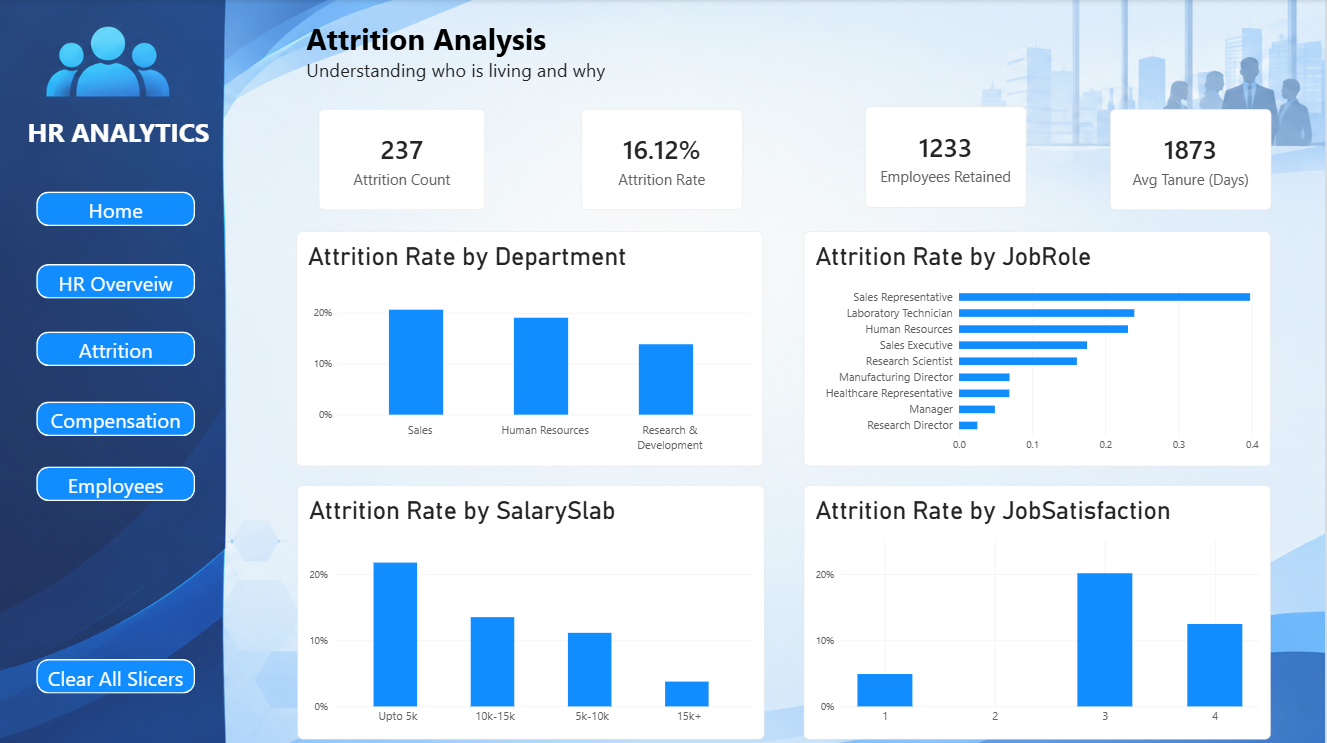

This screenshot's page, from the dashboard's own definition file:
{"tool":"powerbi","page":{"name":"Attrition","canvas":[1920,1080],"ordinal":2},"visuals":[{"type":"card","fields":{"Values":["Measure.Attrition Rate"]},"box":[841.5,159.3,233.4,146.6],"z":0},{"type":"textbox","box":[39.8,166.5,273.3,63.3],"z":0,"group":"g1"},{"type":"card","fields":{"Values":["Measure.Attrition Count"]},"box":[461.5,159.3,240.7,146.6],"z":1000},{"type":"card","fields":{"Values":["Measure.Employees Retained"]},"box":[1252.3,155.6,233.4,146.6],"z":2000},{"type":"card","fields":{"Values":["Measure.Avg Tanure (Days)"]},"box":[1607,159.3,233.4,146.6],"z":3000},{"type":"columnChart","fields":{"Category":["Dim_Department.Department"],"Y":["Measure.Attrition Rate"]},"box":[428,336,676,340],"z":4000},{"type":"clusteredBarChart","fields":{"Category":["Dim_Job.JobRole"],"Y":["Measure.Attrition Rate"]},"box":[1164,336,676,340],"z":5000},{"type":"clusteredColumnChart","fields":{"Category":["Fact_HR.SalarySlab"],"Y":["Measure.Attrition Rate"]},"box":[430,704,676,368],"z":6000},{"type":"clusteredColumnChart","fields":{"Category":["Dim_Job.JobSatisfaction"],"Y":["Measure.Attrition Rate"]},"box":[1164,704,676,368],"z":7000},{"type":"textbox","box":[443.4,27.1,515.8,123.1],"z":8000},{"type":"group","id":"g1","title":"Group 3","box":[39.8,166.5,273.3,839],"z":9000},{"type":"actionButton","box":[52.5,278.7,230,50],"z":9000,"group":"g1"},{"type":"actionButton","box":[52.5,383.7,230,50],"z":10000,"group":"g1"},{"type":"actionButton","box":[52.5,481.4,230,50],"z":11000,"group":"g1"},{"type":"actionButton","box":[52.5,582.7,230,50],"z":12000,"group":"g1"},{"type":"actionButton","box":[52.5,955.5,230,50],"z":13000,"group":"g1"},{"type":"actionButton","box":[52.5,676.8,230,50],"z":14000,"group":"g1"}]}

Visuals, with their boxes in screenshot pixels (x1, y1, x2, y2), scaled from the page's 1920x1080 canvas onto the 1327x743 screenshot:
card - Measure.Attrition Rate: (left=582, top=110, right=743, bottom=210)
textbox: (left=28, top=115, right=216, bottom=158)
card - Measure.Attrition Count: (left=319, top=110, right=485, bottom=210)
card - Measure.Employees Retained: (left=866, top=107, right=1027, bottom=208)
card - Measure.Avg Tanure (Days): (left=1111, top=110, right=1272, bottom=210)
columnChart - Dim_Department.Department x Measure.Attrition Rate: (left=296, top=231, right=763, bottom=465)
clusteredBarChart - Dim_Job.JobRole x Measure.Attrition Rate: (left=804, top=231, right=1272, bottom=465)
clusteredColumnChart - Fact_HR.SalarySlab x Measure.Attrition Rate: (left=297, top=484, right=764, bottom=737)
clusteredColumnChart - Dim_Job.JobSatisfaction x Measure.Attrition Rate: (left=804, top=484, right=1272, bottom=737)
textbox: (left=306, top=19, right=663, bottom=103)
"Group 3" group: (left=28, top=115, right=216, bottom=692)
actionButton: (left=36, top=192, right=195, bottom=226)
actionButton: (left=36, top=264, right=195, bottom=298)
actionButton: (left=36, top=331, right=195, bottom=366)
actionButton: (left=36, top=401, right=195, bottom=435)
actionButton: (left=36, top=657, right=195, bottom=692)
actionButton: (left=36, top=466, right=195, bottom=500)
